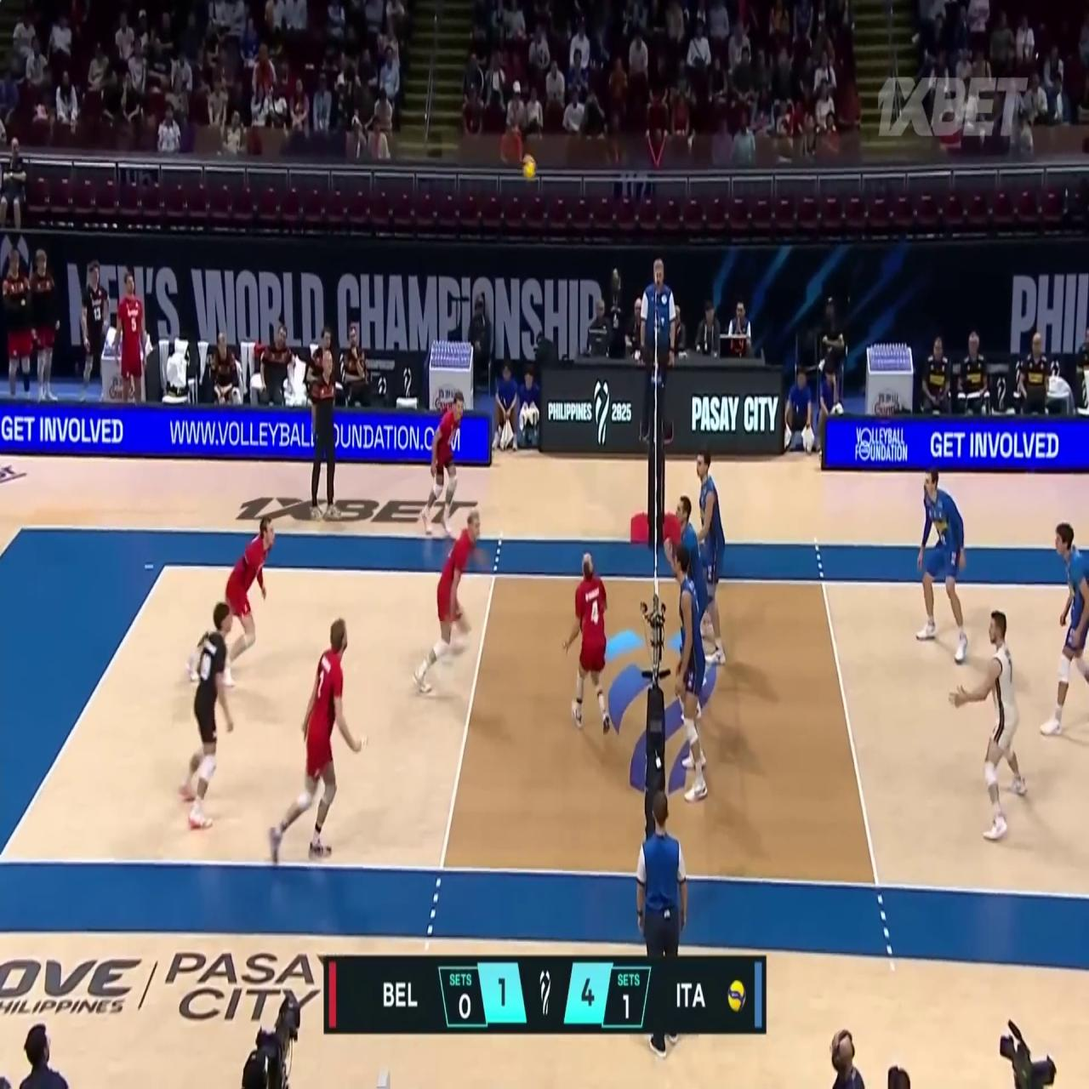ball: (523, 153, 537, 181)
